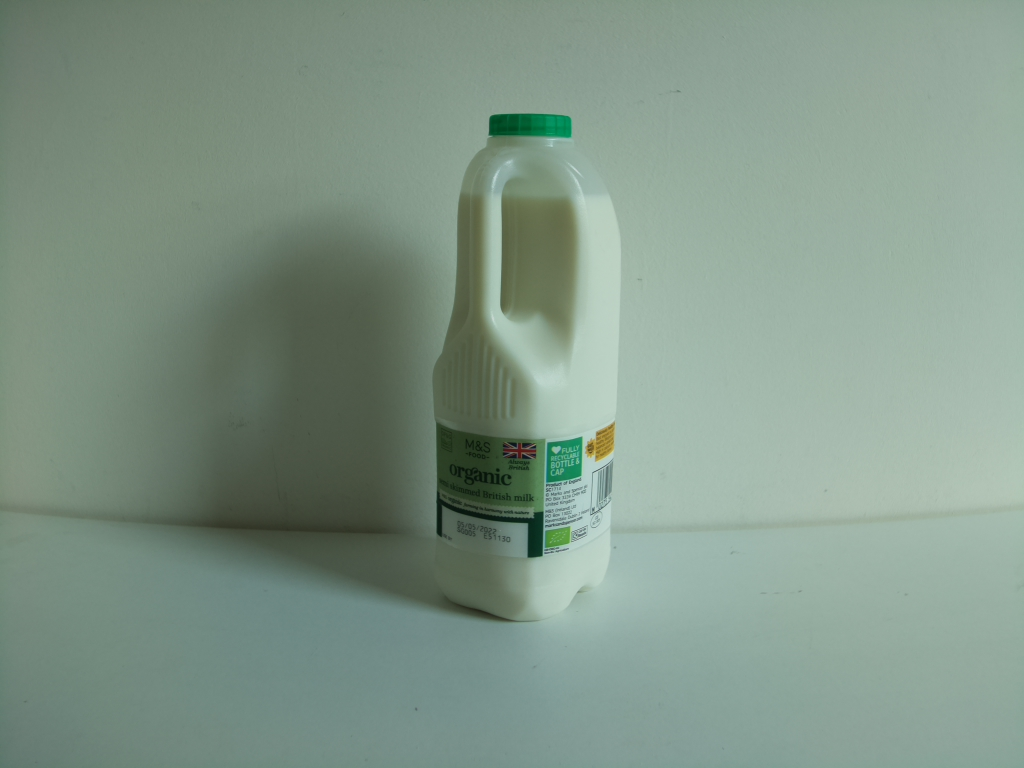milk: (422, 110, 626, 626)
